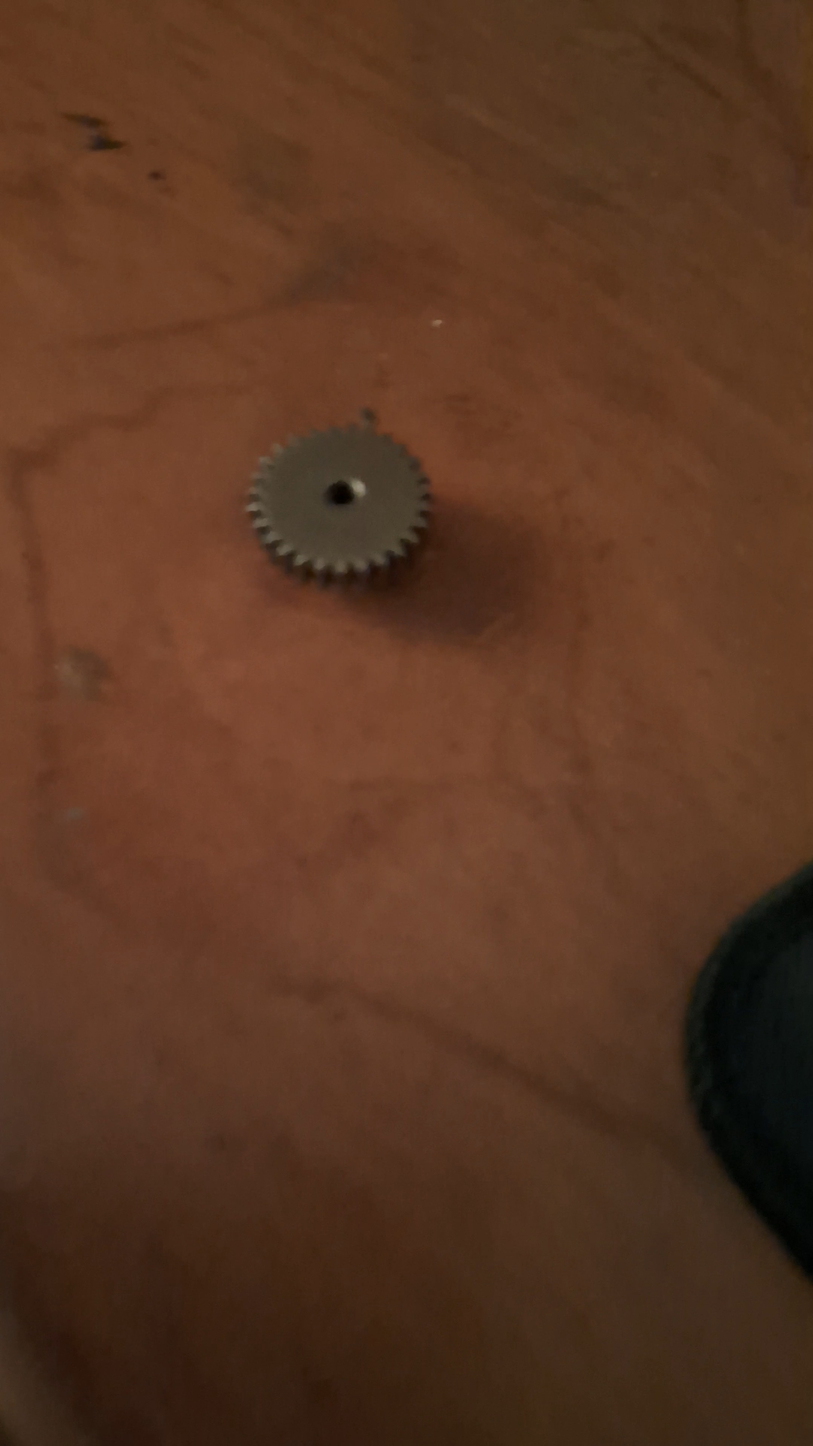spur gear: (247, 421, 429, 582)
